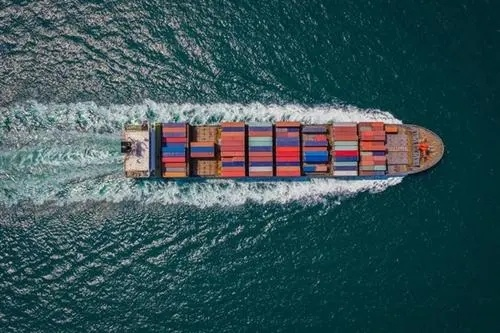Cargoship: (116, 113, 447, 184)
